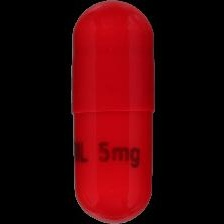63187-073: (0, 0, 224, 224)
